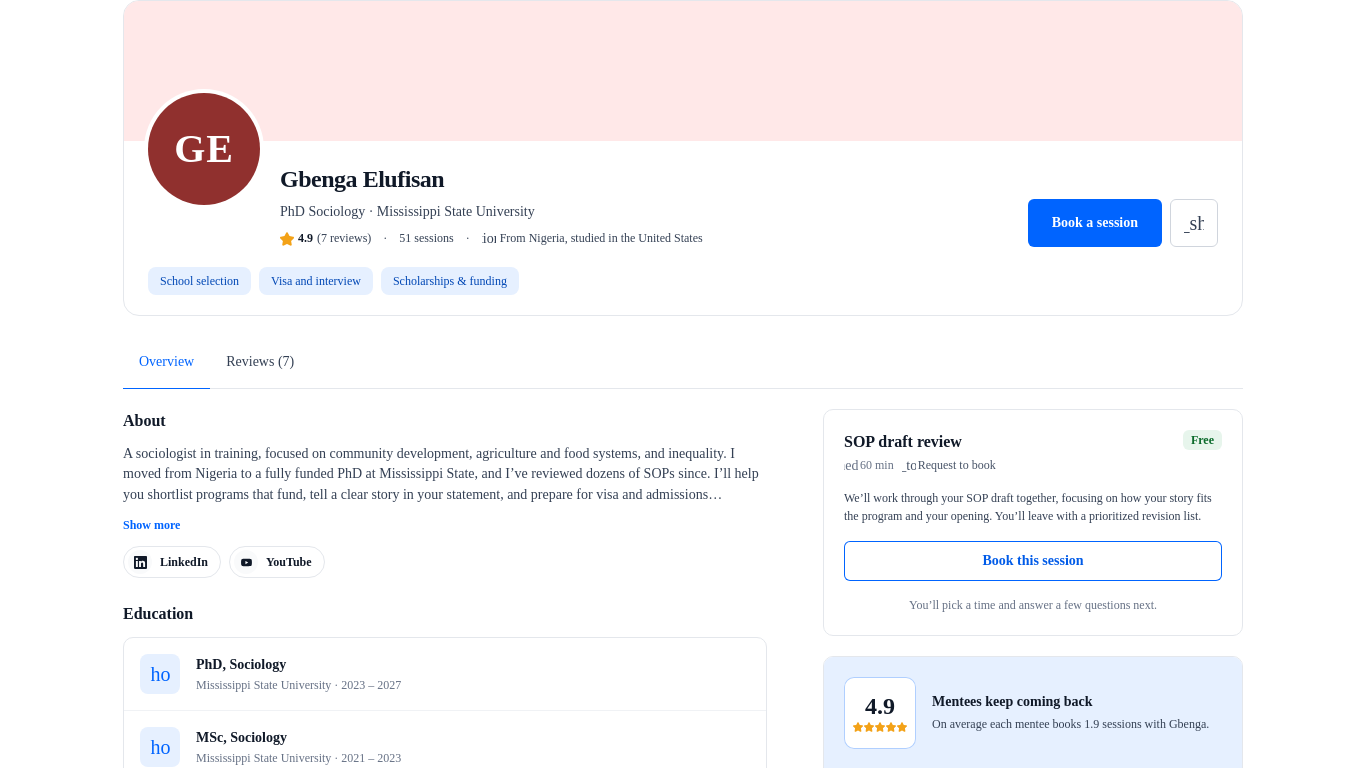
Test: MentorProfileScreen — a mentor viewing another mentor (mentors can’t book) › an open booking closes if the viewer turns out to be a mentor (review of #54)
The image size is (1366, 768).
Click the button "Book a session".
click(1095, 224)  # box [1028,200,1162,248]
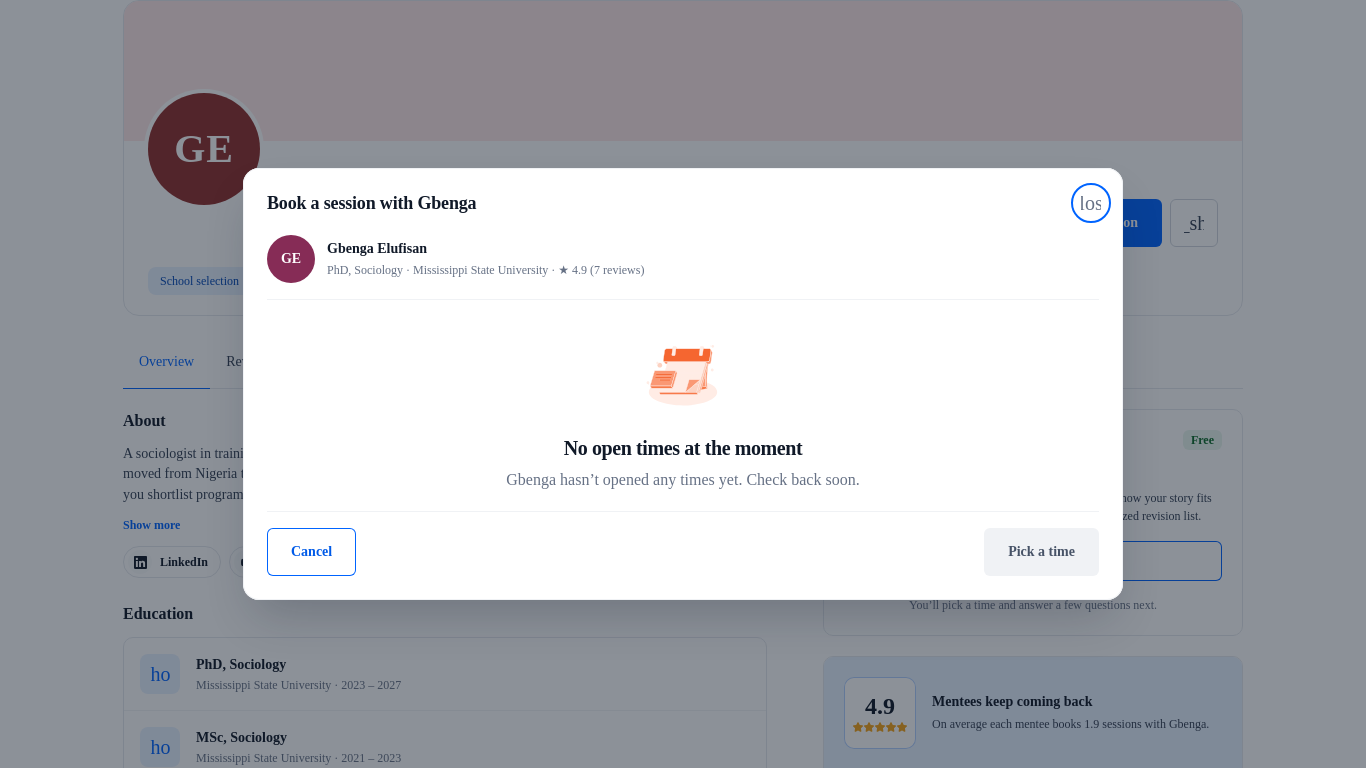
Result: the dialog is shown at [243,168,1123,600]
